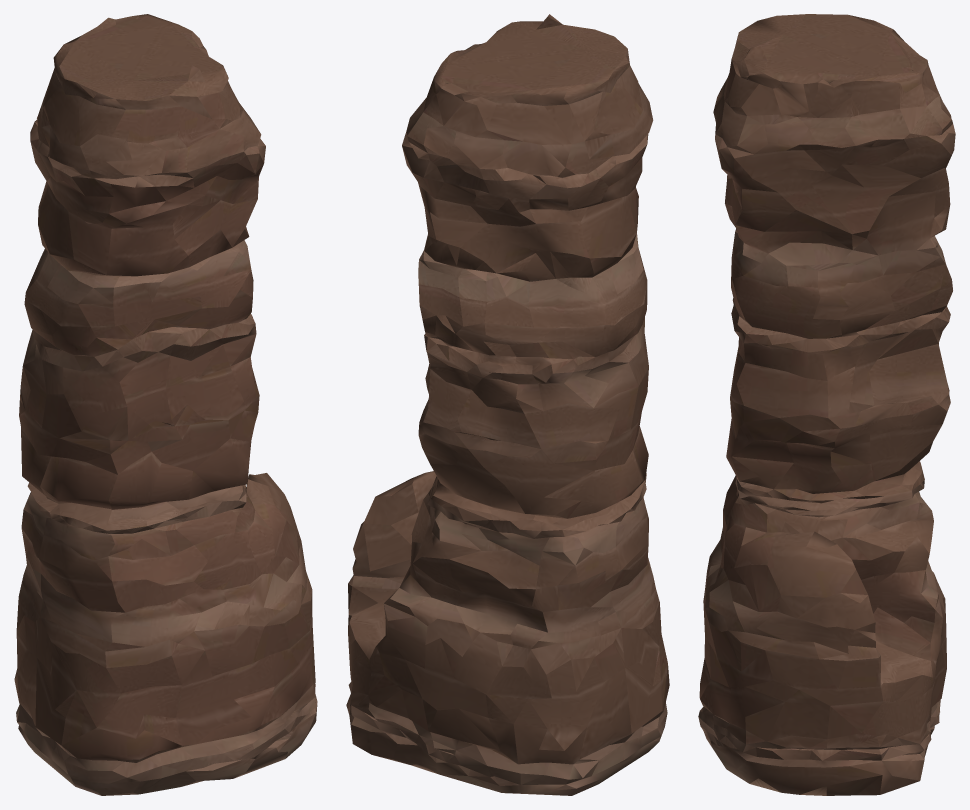
File: b03_rock_spire.glb
3 renders of one model, left to right at view 1: azimuth 30°, elevation 25°; view 2: azimuth 150°, elevation 25°; view 3: azimuth 270°, elevation 25°, orthographic.
Visible parts, largest first — view 1: GLTF; view 2: GLTF; view 3: GLTF.
Part boxes in pixels (x1,y1,x2,y2): GLTF: (14, 14, 317, 795); GLTF: (346, 14, 669, 795); GLTF: (698, 14, 955, 795).
Bounding box in the file's own units: 1 × 2.51 × 0.8502.
Materials: 1 (1 with a texture image).
